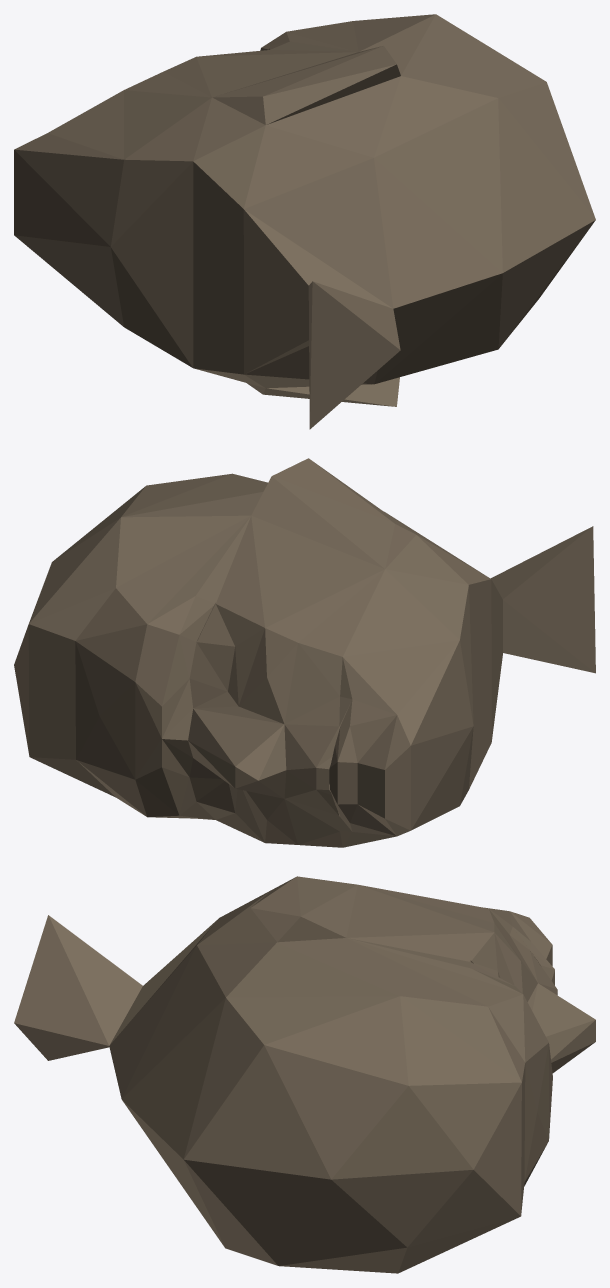
Rendered from HUM_HEAD_STD_PONY.OBJ.
3 views of the same model, one above another, from view 1: azimuth 30°, elevation 25°; view 2: azimuth 150°, elevation 25°; view 3: azimuth 270°, elevation 25° (orthographic).
Visible parts, largest first — view 1: HUM_HEAD_STD_PONY; view 2: HUM_HEAD_STD_PONY; view 3: HUM_HEAD_STD_PONY.
Part boxes in pixels (x1=…): HUM_HEAD_STD_PONY: x1=14, y1=14, x2=595, y2=429; HUM_HEAD_STD_PONY: x1=14, y1=458, x2=595, y2=847; HUM_HEAD_STD_PONY: x1=14, y1=876, x2=595, y2=1273.
Bounding box in the file's own units: 0.2732 × 0.199 × 0.3069.
